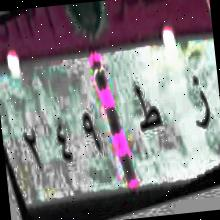2: (19, 116, 49, 182)
4: (52, 106, 76, 174)
9: (79, 105, 108, 166)
Taa: (130, 73, 167, 148)
zay: (185, 69, 217, 138)
